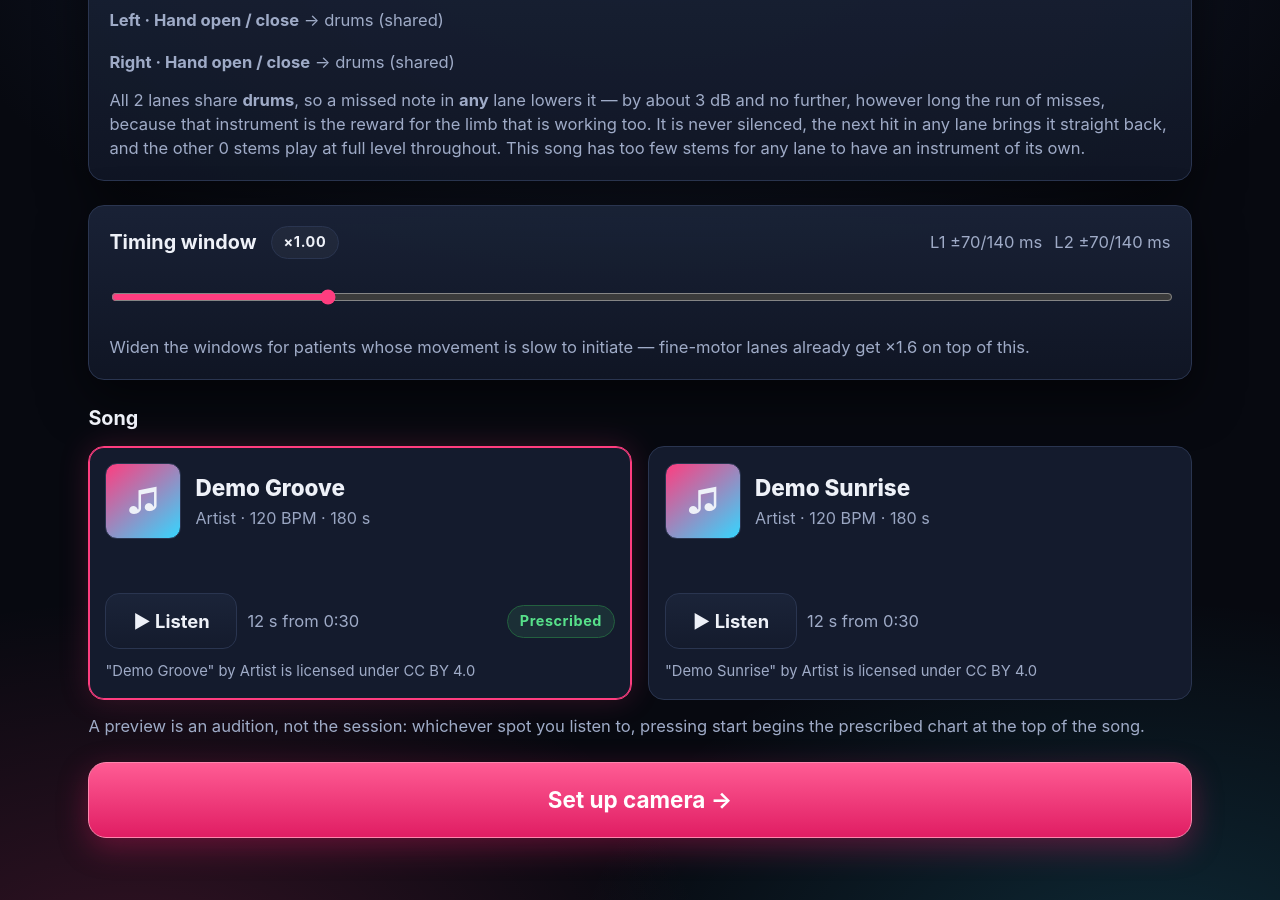
Test: an audition says what it is costing › counts the bytes of the cheap, ranged path
The image size is (1280, 900).
(page scrolled)
Click the button with test id "preview-demo-sunrise" at (731, 622), box [665,594,797,650]
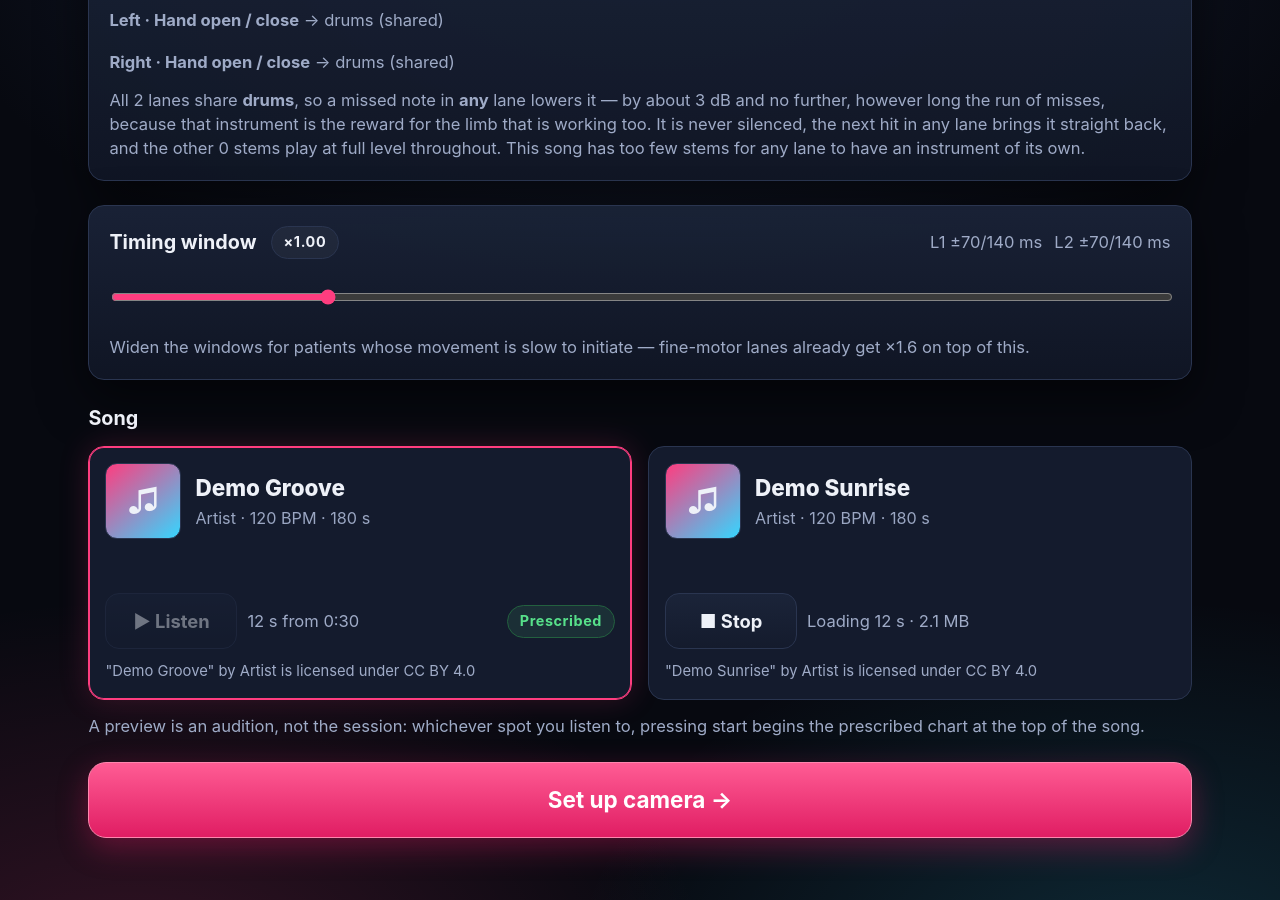
Expected: the text with test id "preview-status-demo-sunrise" shows "Loading 12 s", [807,612,969,632]
Expected: the text with test id "preview-status-demo-sunrise" shows "2.1 MB", [807,612,969,632]
